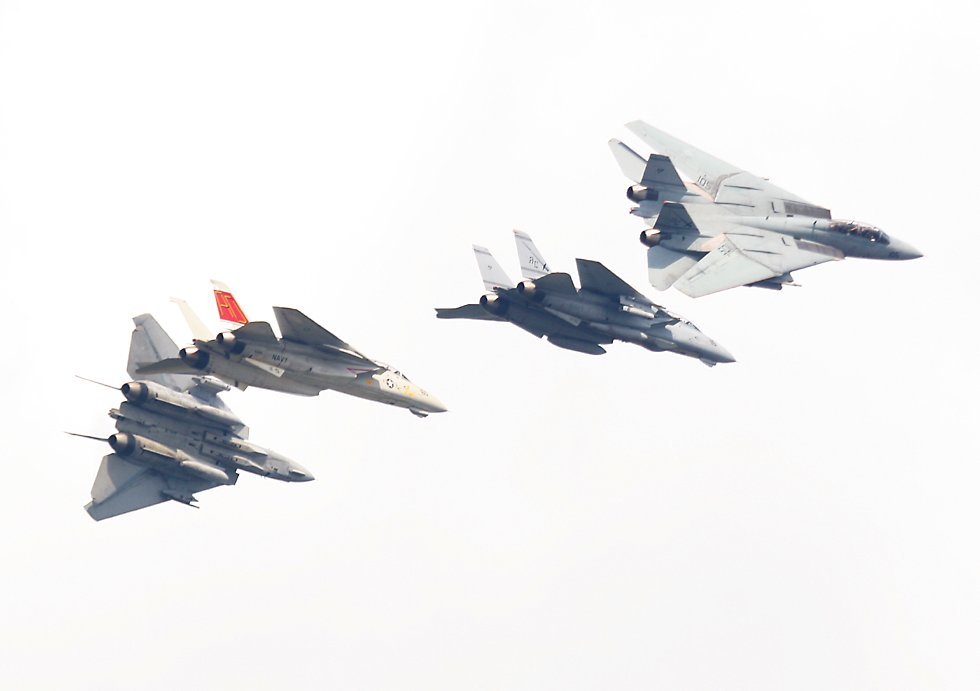F14: (607, 119, 928, 299), (62, 313, 318, 522), (134, 277, 453, 419), (434, 228, 745, 368)
